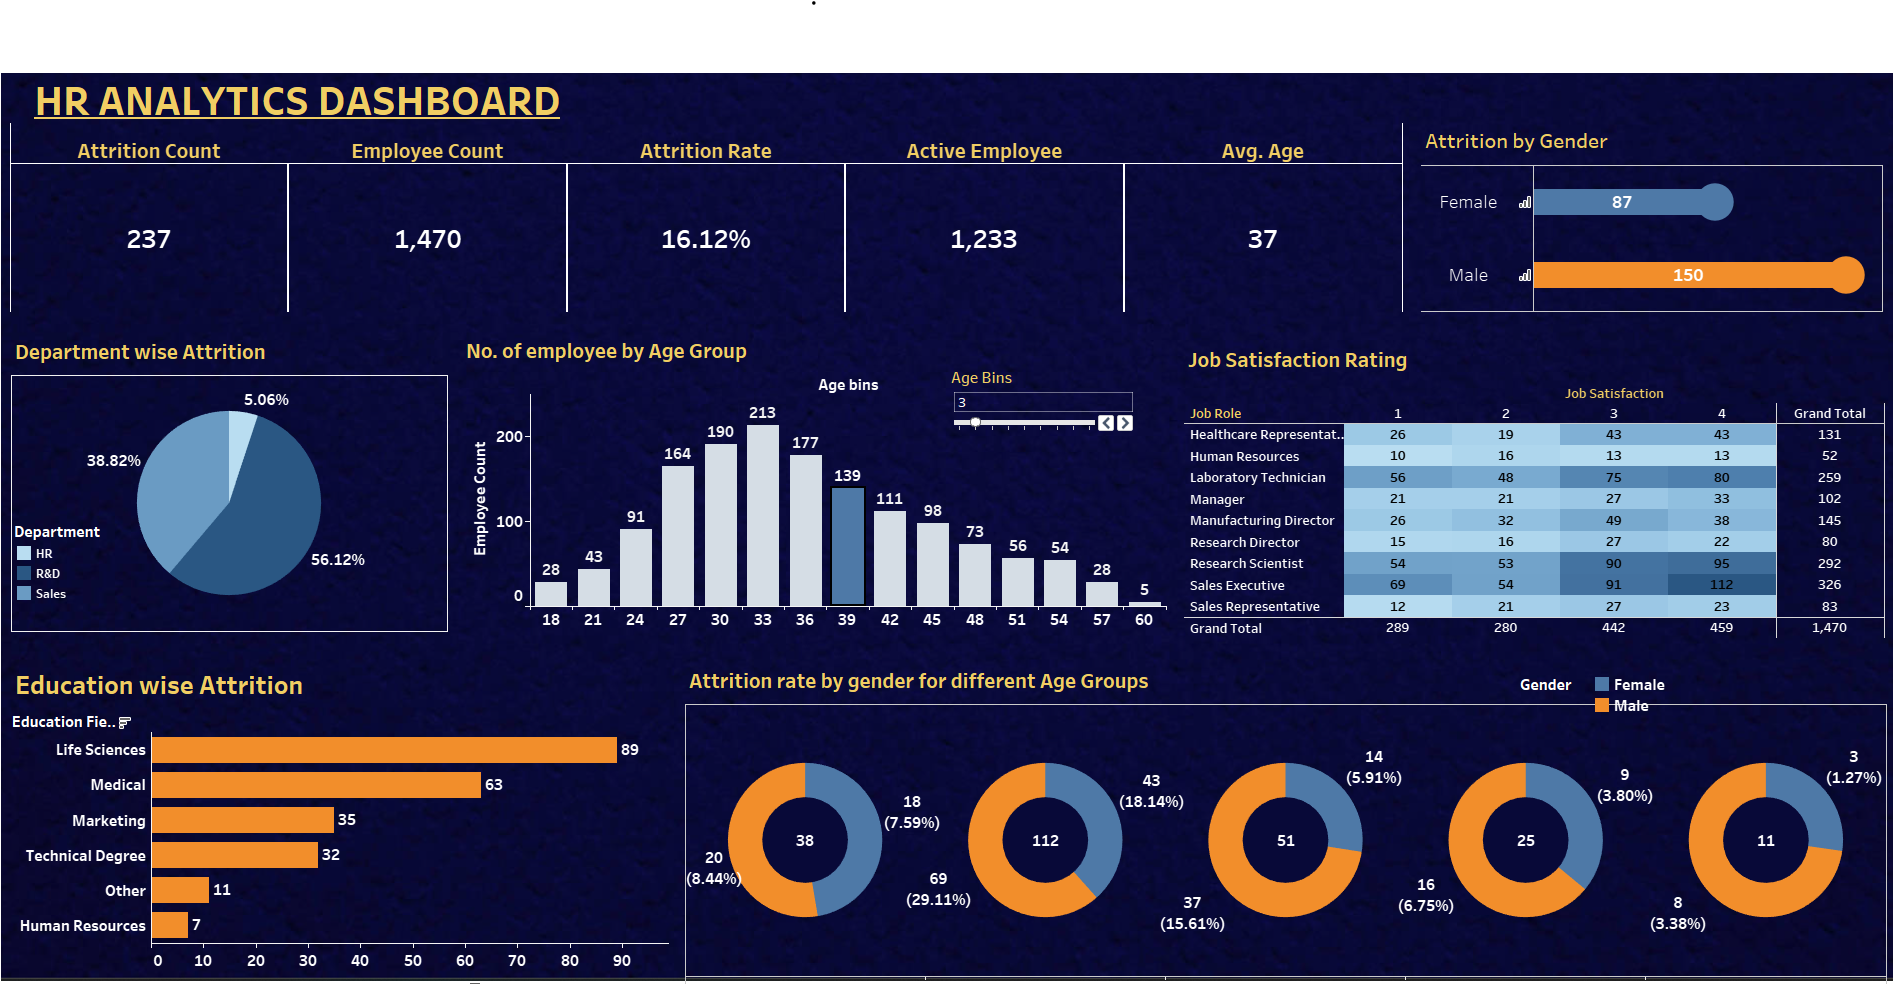

The page's visual inventory and layout, read from the dashboard file:
{"tool":"tableau","page":{"name":"Dashboard 1","canvas":[1000,1000],"units":"permille","ordinal":0},"visuals":[{"type":"image","param":"C:/Users/HP/OneDrive/Desktop/Hr Analytics/BGM.png","box":[4.8,10,990.3,980]},{"type":"filter","title":"Education wise Attrition","param":"[federated.1p1f7131k3x1od1gj8ej00ppp8lt].[none:Education Field:nk]","box":[460.5,26.2,216.7,64.9]},{"type":"worksheet","title":"Attrition by Gender","mark":"Automatic","rows":["Gender"],"cols":["Calculation_728457298877747201","Calculation_728457298877747201"],"box":[745.9,91.1,240.8,196]},{"type":"worksheet","title":"KPI","mark":"Automatic","box":[10.9,92.4,725.4,191]},{"type":"worksheet","title":"No. of employee by Age Group","mark":"Automatic","rows":["Employee Count"],"cols":["Age (bin)"],"box":[246.2,303.4,367.5,302.1]},{"type":"worksheet","title":"Department wise Attrition","mark":"Pie","box":[11.5,304.6,227.5,300.9]},{"type":"worksheet","title":"Job Satisfaction Rating","mark":"Square","rows":["Job Role"],"cols":["Job Satisfaction"],"box":[622.2,312.1,365.1,299.6]},{"type":"parameter","param":"[Parameters].[Parameter 1]","box":[500.9,338.3,96.6,88.6]},{"type":"legend","title":"Department wise Attrition","param":"[federated.1p1f7131k3x1od1gj8ej00ppp8lt].[none:Department:nk]","box":[13.3,493.1,84.5,119.9]},{"type":"worksheet","title":"Attrition rate by gender for different Age Groups","mark":"Pie","rows":["Calculation_591941935409754116","Calculation_591941935409754116"],"cols":["CF_age band"],"box":[362.7,635.5,625.8,342.1]},{"type":"worksheet","title":"Education wise Attrition","mark":"Automatic","rows":["Education Field"],"cols":["Calculation_728457298877747201"],"box":[11.5,636.7,342.8,345.8]},{"type":"legend","title":"Attrition rate by gender for different Age Groups","param":"[federated.1p1f7131k3x1od1gj8ej00ppp8lt].[none:Gender:nk]","box":[797.2,647.9,190.1,42.5]}]}

Visuals, with their boxes on the dashboard's canvas, which has no fixed pixel size, in thousandths of its width and height (x1, y1, x2, y2). These are canvas units, not pixel positions in the 1893x984 screenshot, which may show the page scaled, cropped or inside an application window:
image: left=5, top=10, right=995, bottom=990
"Education wise Attrition" filter: left=460, top=26, right=677, bottom=91
"Attrition by Gender" worksheet: left=746, top=91, right=987, bottom=287
"KPI" worksheet: left=11, top=92, right=736, bottom=283
"No. of employee by Age Group" worksheet: left=246, top=303, right=614, bottom=606
"Department wise Attrition" worksheet (Pie marks): left=12, top=305, right=239, bottom=606
"Job Satisfaction Rating" worksheet (Square marks): left=622, top=312, right=987, bottom=612
parameter: left=501, top=338, right=598, bottom=427
"Department wise Attrition" legend: left=13, top=493, right=98, bottom=613
"Attrition rate by gender for different Age Groups" worksheet (Pie marks): left=363, top=636, right=988, bottom=978
"Education wise Attrition" worksheet: left=12, top=637, right=354, bottom=982
"Attrition rate by gender for different Age Groups" legend: left=797, top=648, right=987, bottom=690
